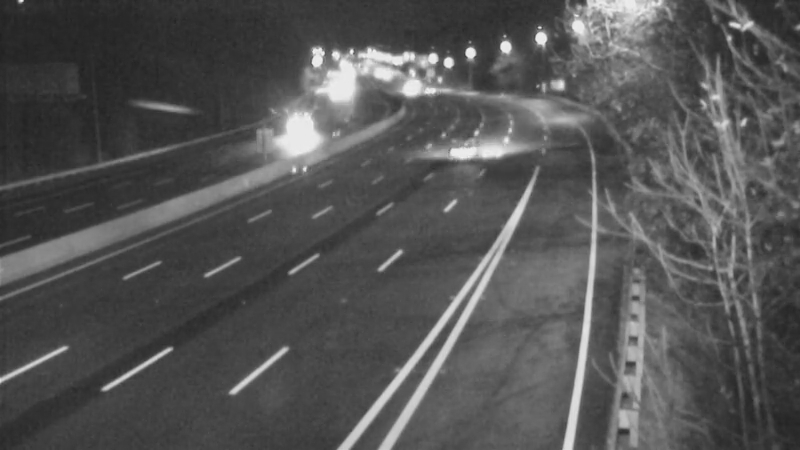vehicle: (383, 56, 433, 106), (407, 66, 457, 116), (388, 68, 438, 118), (436, 123, 486, 173), (267, 108, 317, 158)
